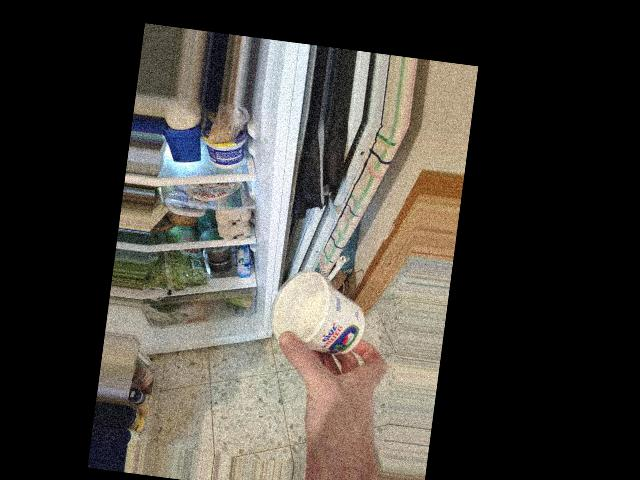cotage: (279, 263, 361, 355)
